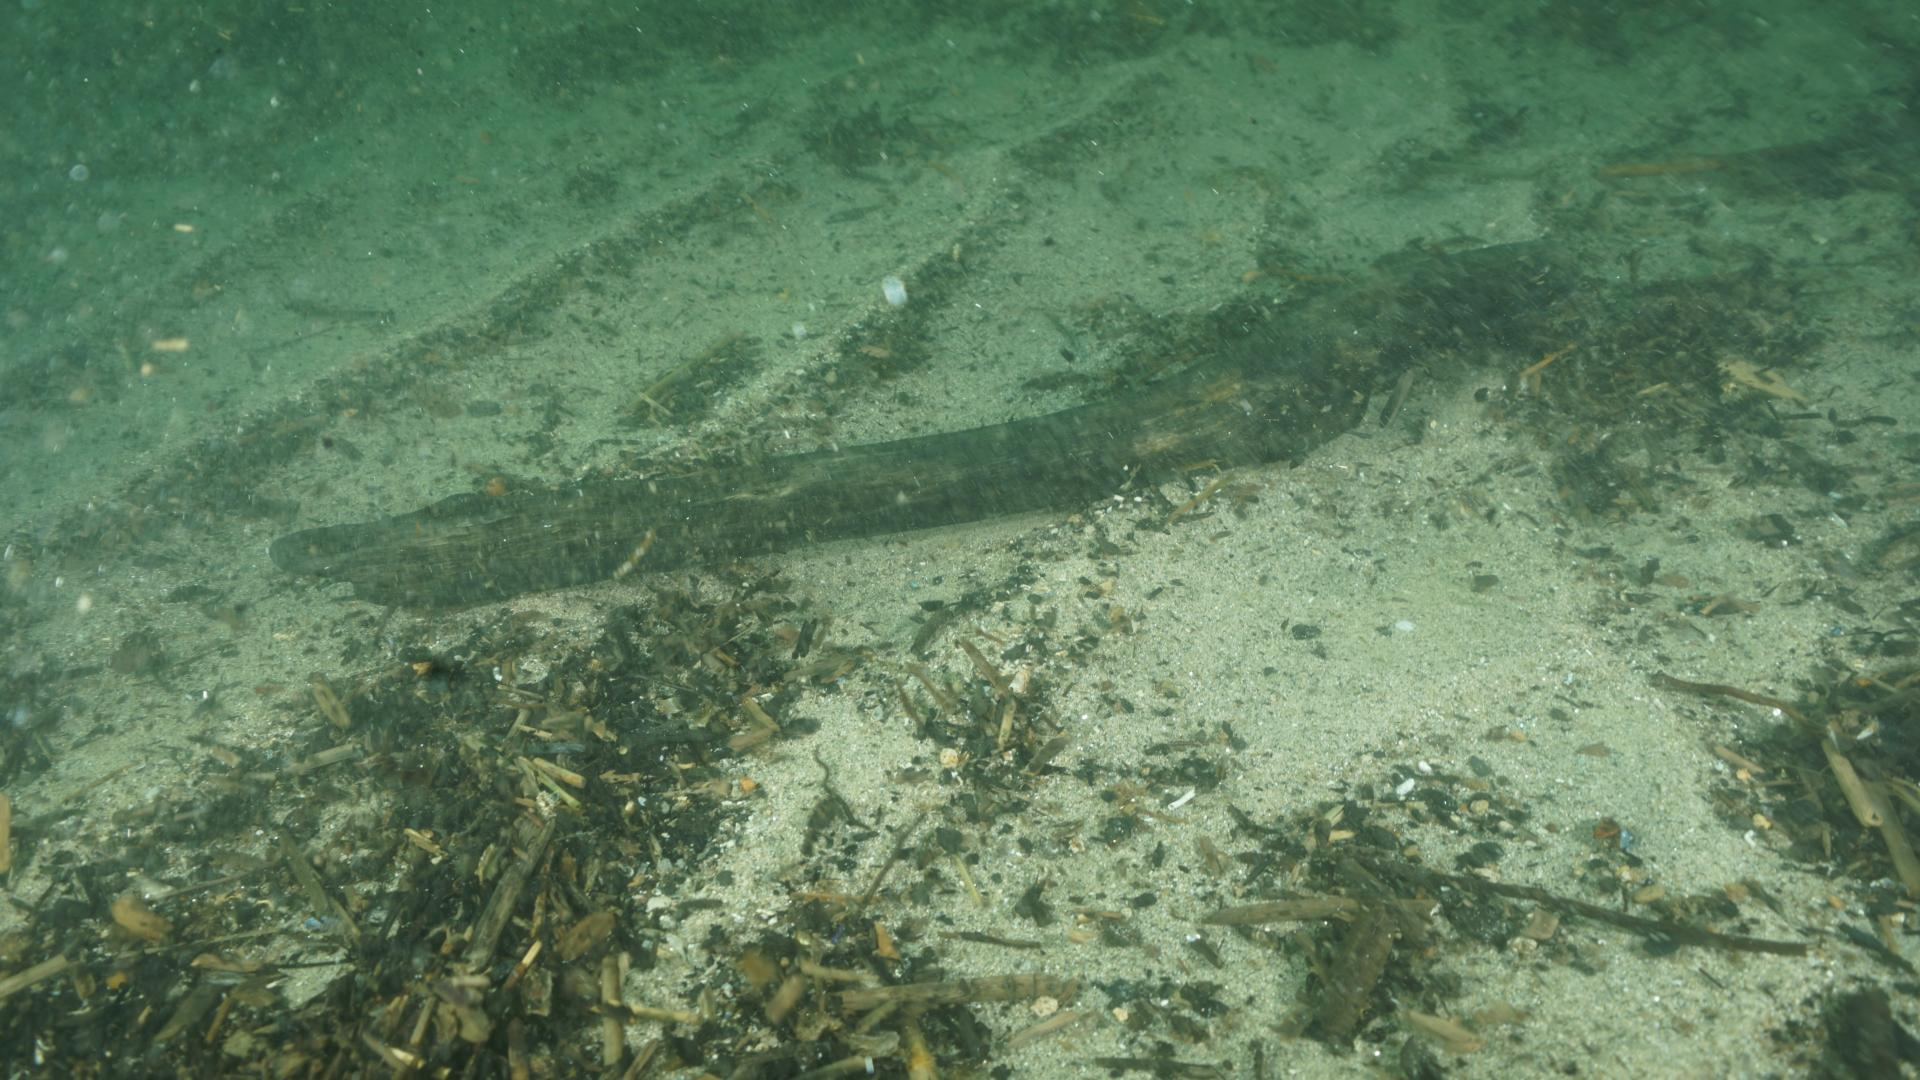wood: (266, 239, 1836, 604)
